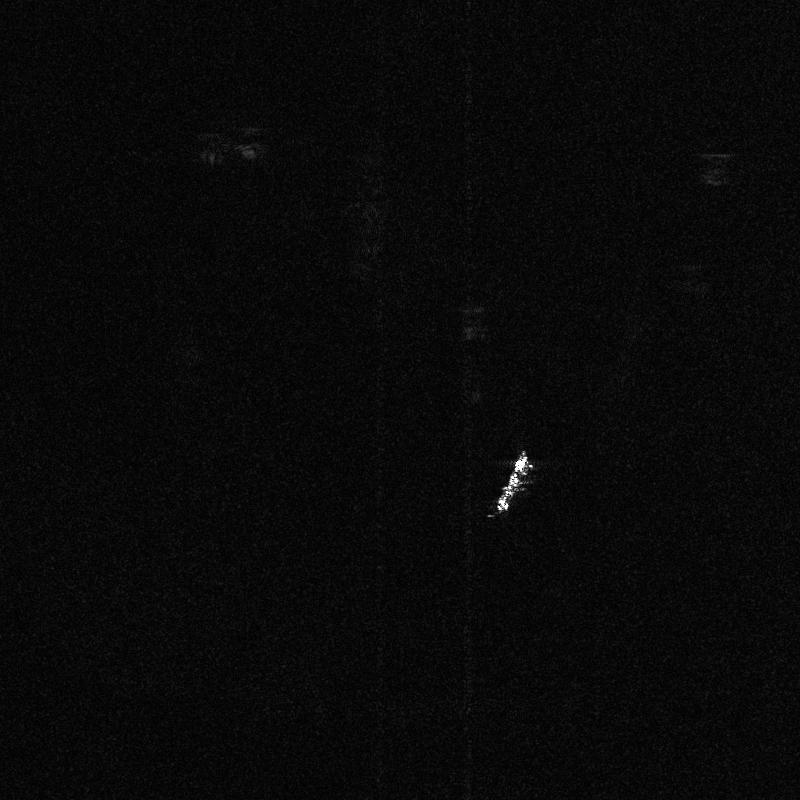ship: (496, 452, 529, 513)
